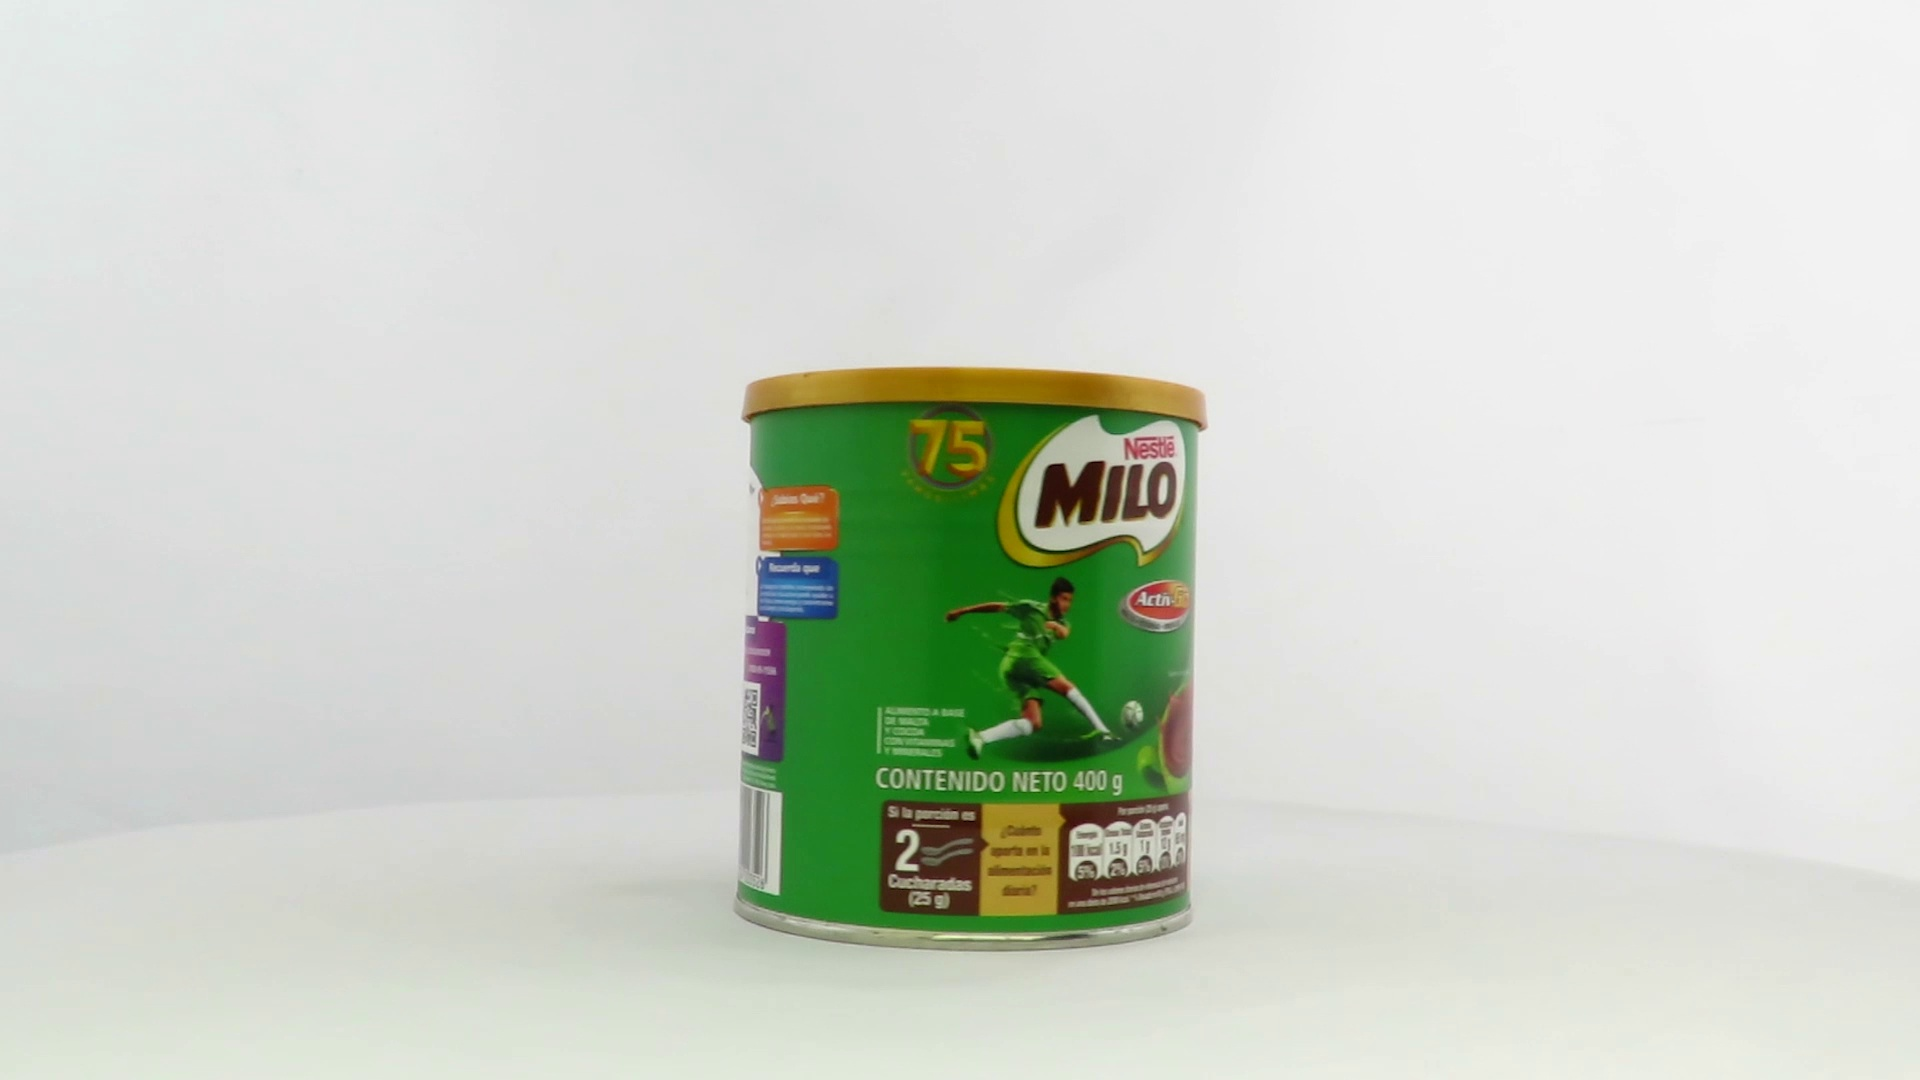COL0170203LAT40000: (728, 363, 1215, 957)
